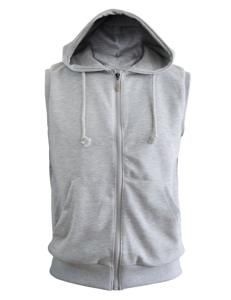C_vest: (32, 6, 199, 296)
